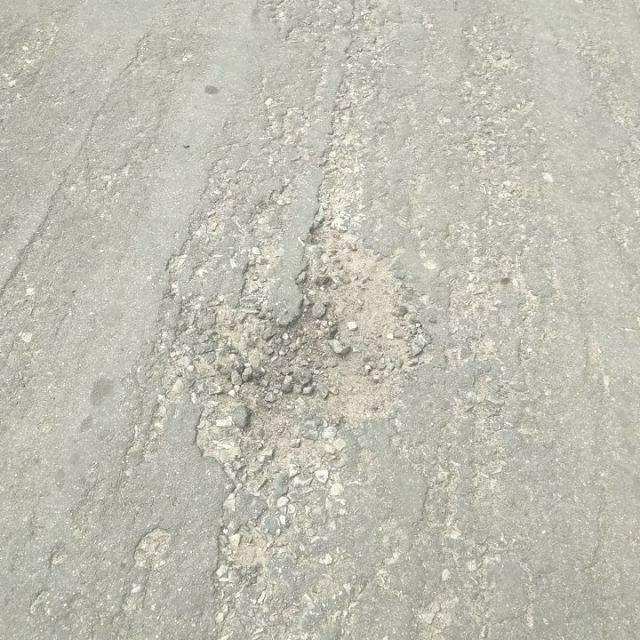Pothole: (204, 218, 436, 488)
